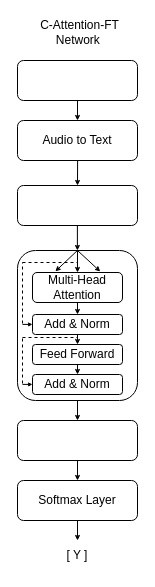
The diagram is 155 pixels wide and 587 high, and some of its shapes have lost their labels. The centre of each missing label's shape, as x and y in pixels:
"A Single Convolution Layer" belongs at [77,440].
"Linguistic Features" belongs at [77,205].
"Original Dataset" belongs at [77,80].
